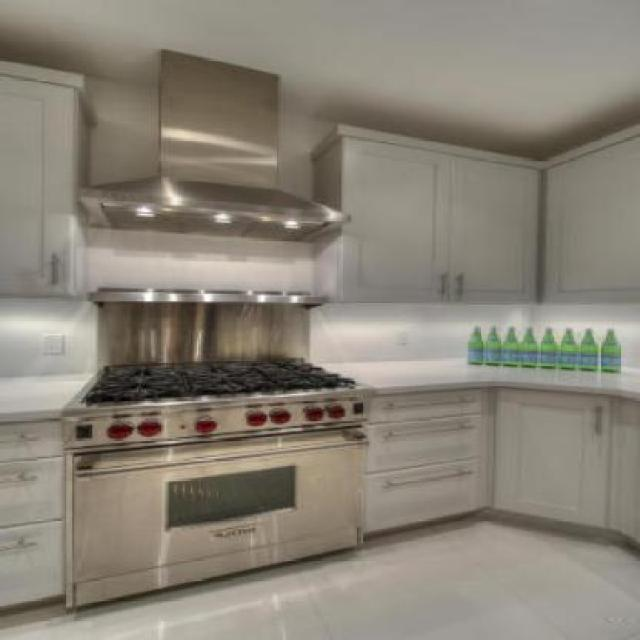floor: (0, 513, 640, 640)
